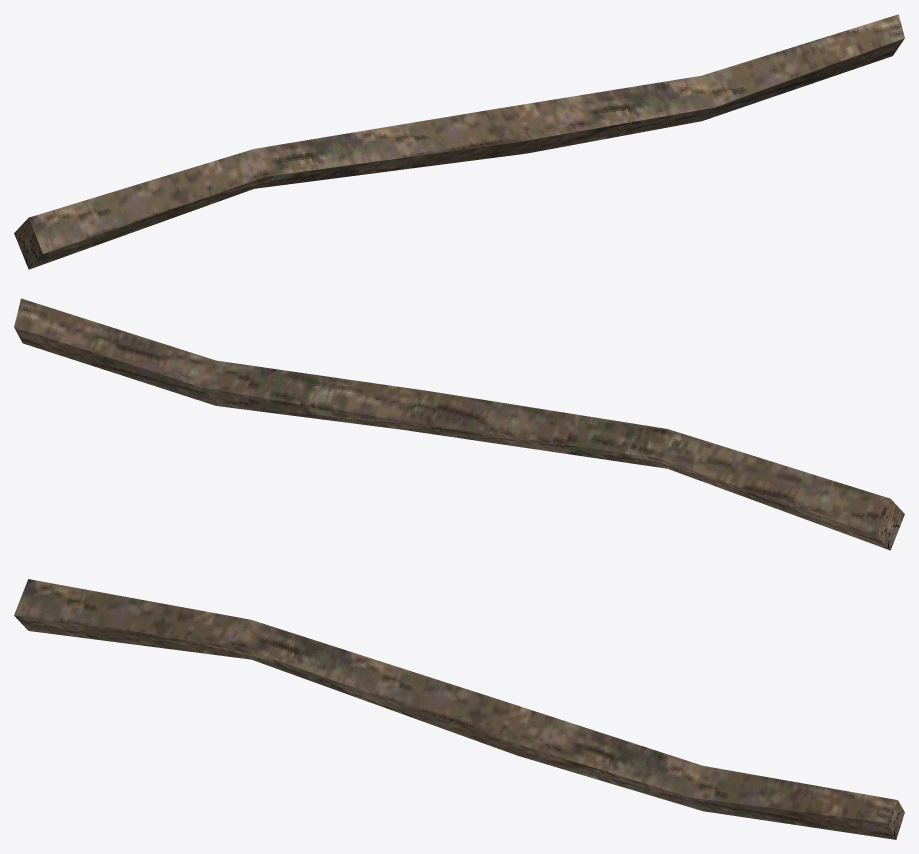
File: lf_wooden_fence_beam_b.glb
The picture shows the model from 3 angles, top to bottom: view 1: azimuth 30°, elevation 25°; view 2: azimuth 150°, elevation 25°; view 3: azimuth 330°, elevation 25°; orthographic projection.
Parts seen in each view (by area): view 1: wooden_fence_beam_alt; view 2: wooden_fence_beam_alt; view 3: wooden_fence_beam_alt.
Part boxes in pixels (<box>): wooden_fence_beam_alt: <box>14,14,904,269</box>; wooden_fence_beam_alt: <box>14,298,904,550</box>; wooden_fence_beam_alt: <box>14,579,904,839</box>.
Size of the model in its own units: 2.02 by 0.1872 by 0.1196.
Materials: 1 (1 with a texture image).
